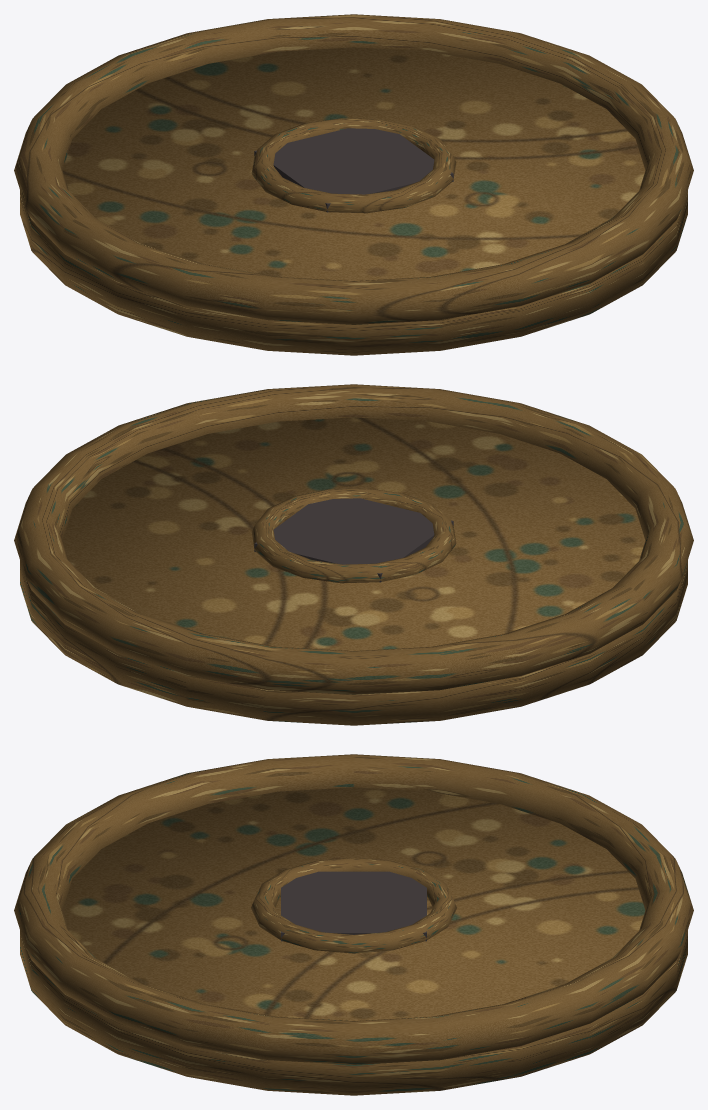
File: dong-xu.glb
3 renders of one model, top to bottom at view 1: azimuth 30°, elevation 25°; view 2: azimuth 150°, elevation 25°; view 3: azimuth 270°, elevation 25°, orthographic.
Visible parts, largest first — view 1: xu; view 2: xu; view 3: xu.
Part boxes in pixels (left/top/right/bottom): xu: left=14, top=14, right=693, bottom=355; xu: left=14, top=384, right=693, bottom=725; xu: left=14, top=754, right=693, bottom=1095.
Size of the model in its own units: 0.0717 by 0.00768 by 0.0717.
2 materials, 1 textured.
